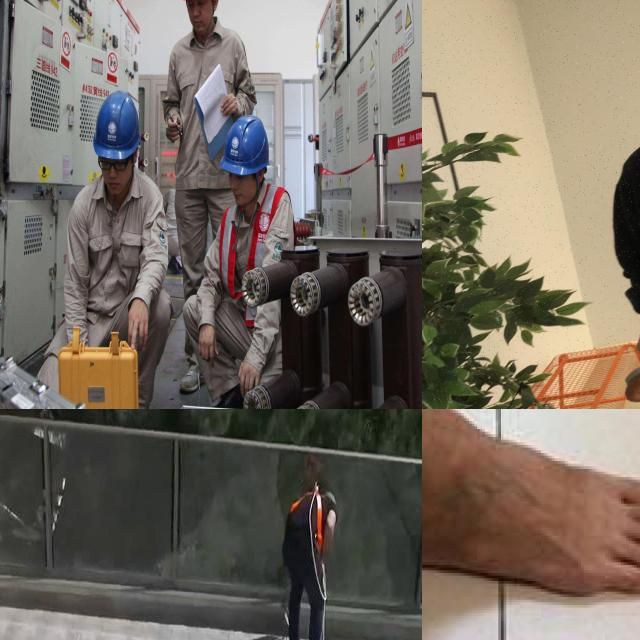Barefoots: (422, 409, 640, 608)
Harness: (290, 485, 325, 552)
face_nomask: (98, 149, 130, 195), (227, 167, 259, 204), (185, 0, 214, 35)
glasses: (96, 157, 130, 176)
hand_noglove: (122, 290, 156, 352), (236, 358, 267, 401), (194, 325, 220, 362), (164, 113, 185, 147), (219, 89, 238, 124)
head_helmet: (93, 90, 139, 159), (227, 114, 268, 176)
person: (62, 96, 166, 338), (201, 115, 276, 406), (165, 0, 226, 229)
vest: (222, 186, 288, 286)
